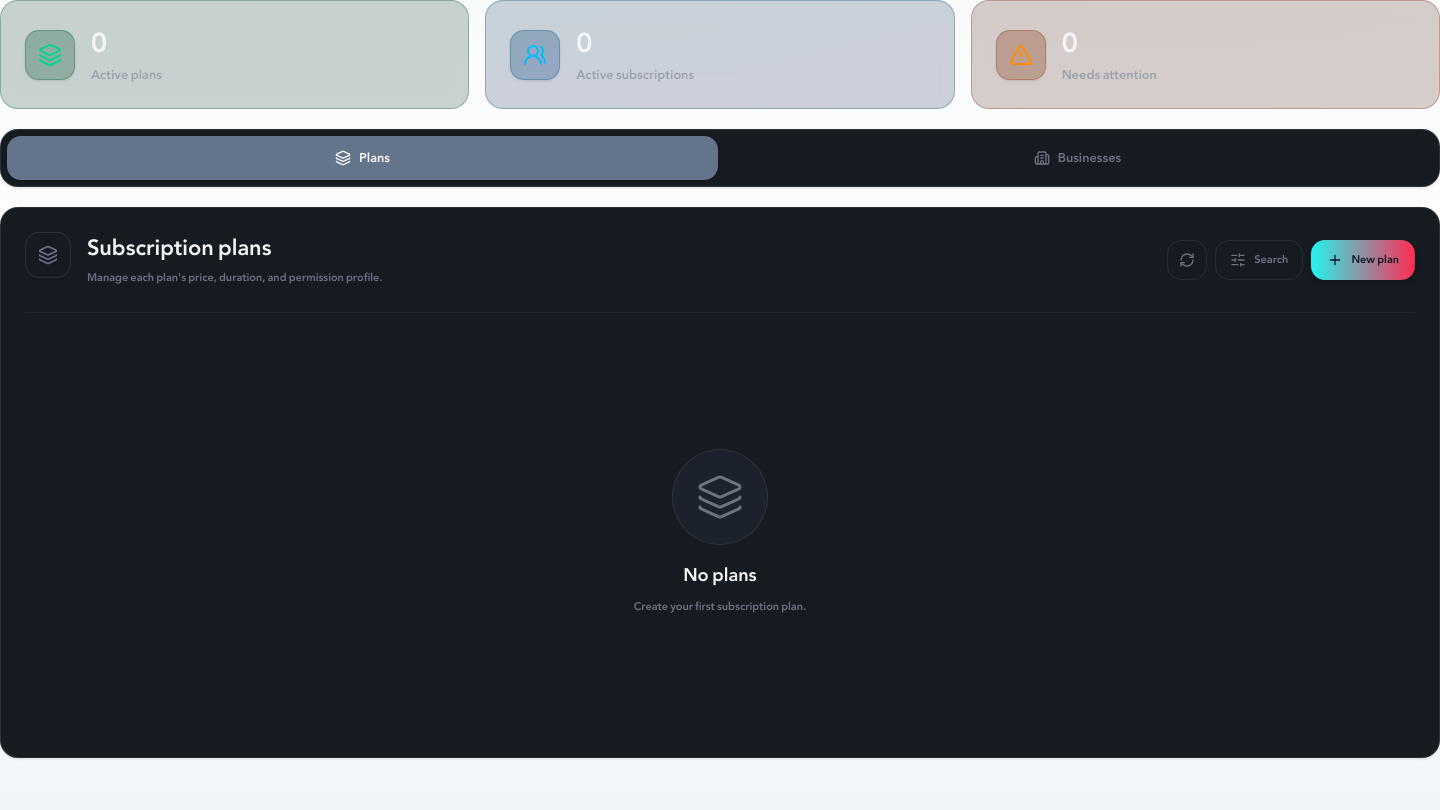
Test: BillingPage Arabic › localizes the overview and plan form in English
Expected: the text "Active plans" is shown, x1=91 y1=64 x2=162 y2=86
Expected: the heading "Subscription plans" is shown, x1=87 y1=232 x2=271 y2=264
Click the button "New plan" at [1363, 260], box x1=1311 y1=240 x2=1415 y2=280
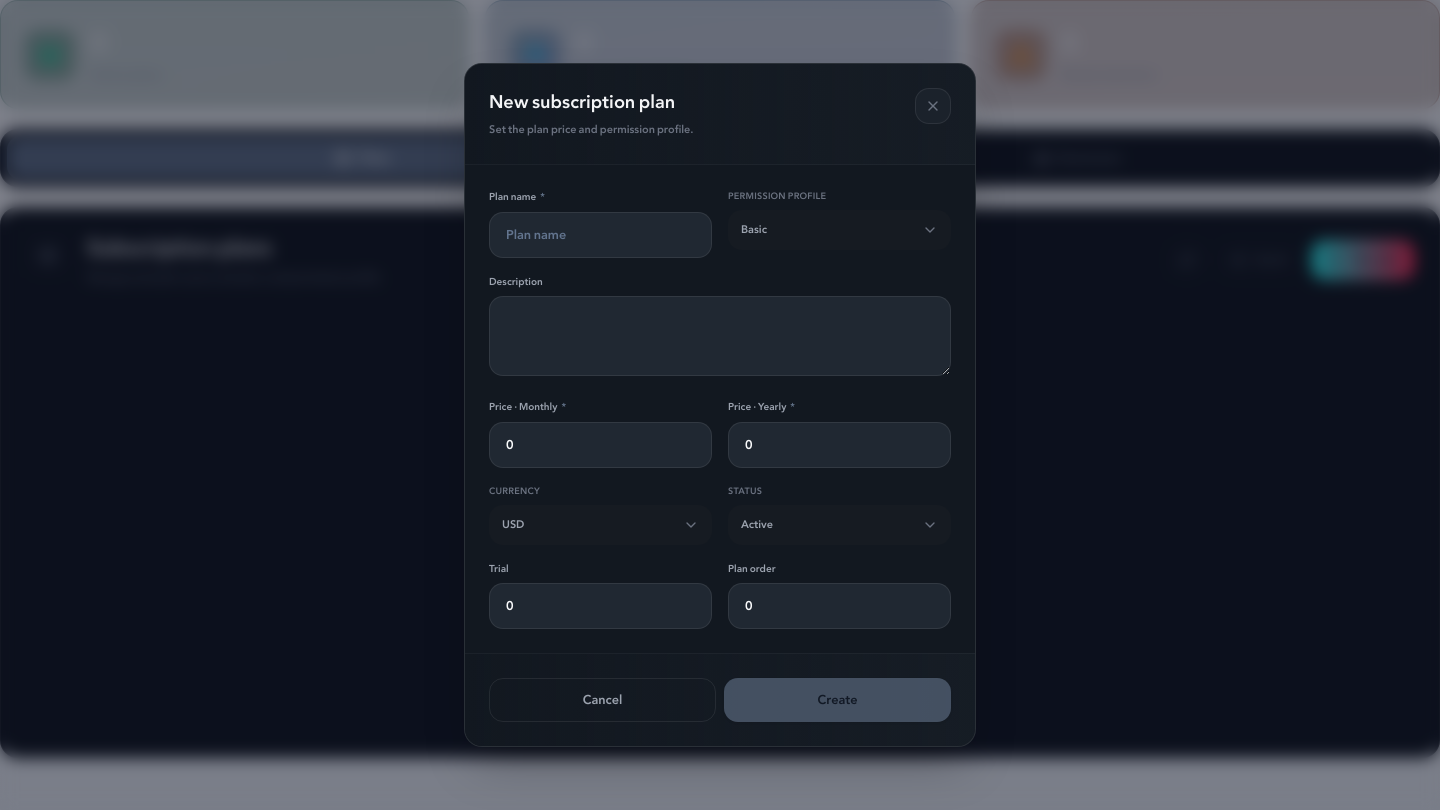
Expected: the heading "New subscription plan" is shown, x1=489 y1=88 x2=694 y2=116
Expected: the number field labelled "Price · Monthly*" is shown, x1=489 y1=422 x2=712 y2=468
Expected: the number field labelled "Price · Yearly*" is shown, x1=728 y1=422 x2=951 y2=468
